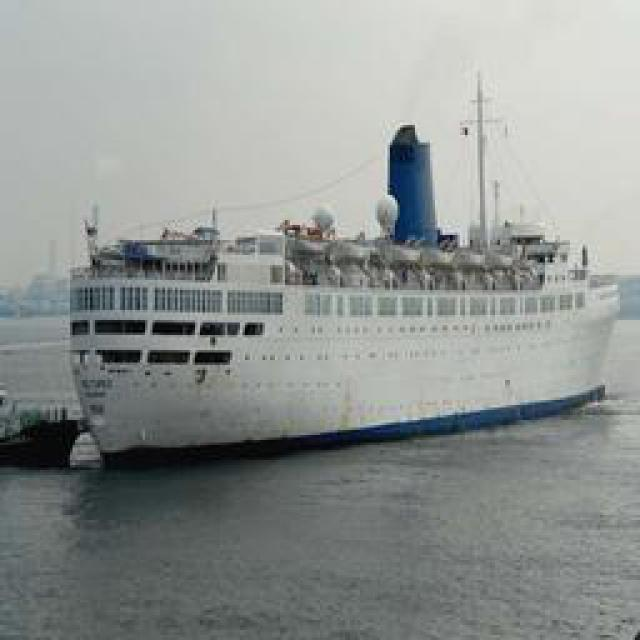Ship: (73, 106, 618, 459)
